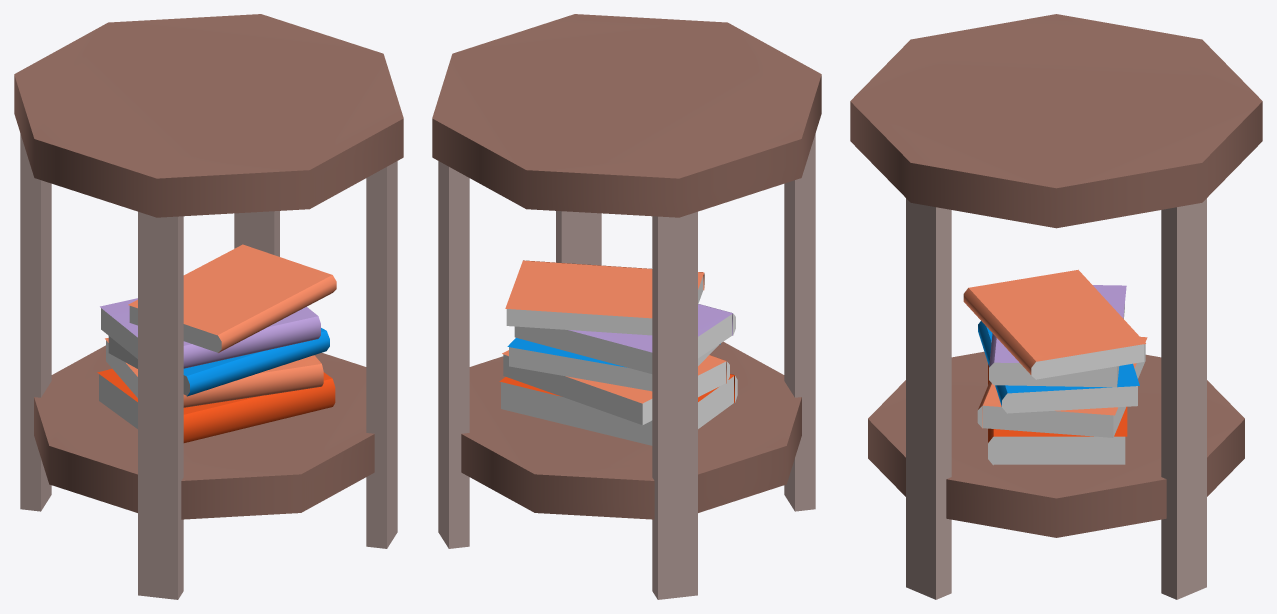
Rendered from coffee_table_009.glb.
The picture shows the model from 3 angles, left to right: view 1: azimuth 30°, elevation 25°; view 2: azimuth 150°, elevation 25°; view 3: azimuth 270°, elevation 25°; orthographic projection. The views are drawn at different scales.
Visible parts, largest first — view 1: coffee_table_009; view 2: coffee_table_009; view 3: coffee_table_009.
Part boxes in pixels (box(x1,y1,x2,y2)): coffee_table_009: box(14, 14, 403, 599); coffee_table_009: box(432, 14, 821, 599); coffee_table_009: box(850, 14, 1262, 599).
Bounding box in the file's own units: 0.4861 × 0.5643 × 0.4861.
Materials: 1 (1 with a texture image).
